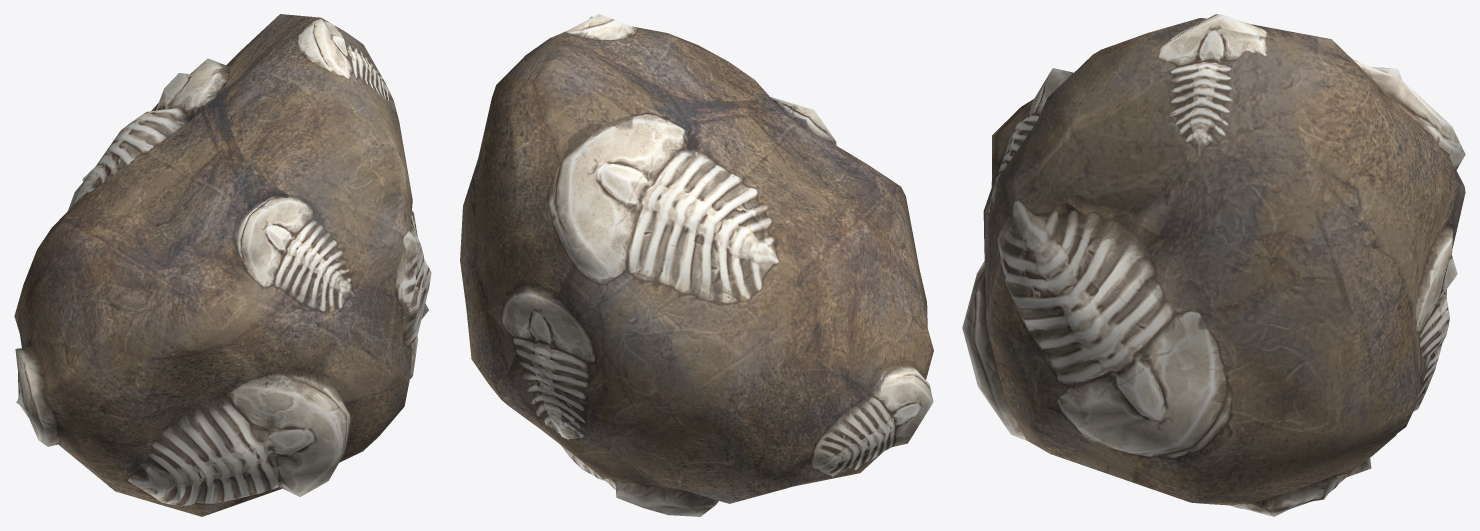
Rendered from SM_FossilNode_4.fbx.
3 views of the same model, side by side, from view 1: azimuth 30°, elevation 25°; view 2: azimuth 150°, elevation 25°; view 3: azimuth 270°, elevation 25° (orthographic). The views are drawn at different scales.
Visible parts, largest first — view 1: SM_FossilNode_4; view 2: SM_FossilNode_4; view 3: SM_FossilNode_4.
Part boxes in pixels (x1,y1,x2,y2): SM_FossilNode_4: (14,14,431,516); SM_FossilNode_4: (460,14,933,516); SM_FossilNode_4: (962,14,1465,516).
Bounding box in the file's own units: 0.8881 × 0.9146 × 0.7836.
